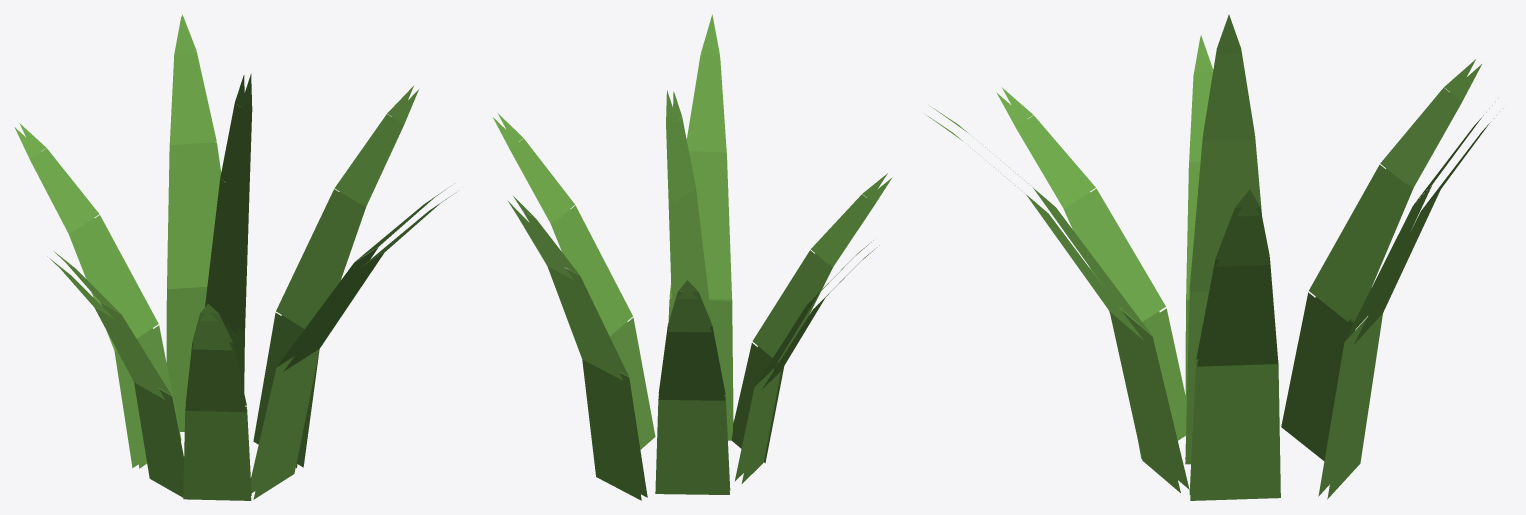
The model's file is grass_clump.glb.
The picture shows the model from 3 angles, left to right: view 1: azimuth 30°, elevation 25°; view 2: azimuth 150°, elevation 25°; view 3: azimuth 270°, elevation 25°; orthographic projection. The views are drawn at different scales.
Parts seen in each view (by area): view 1: Clump_Blades; view 2: Clump_Blades; view 3: Clump_Blades.
Part boxes in pixels (x1,y1,x2,y2): Clump_Blades: (14,14,456,500); Clump_Blades: (493,14,892,500); Clump_Blades: (925,14,1498,500).
Size of the model in its own units: 0.4423 by 0.4214 by 0.4879.
